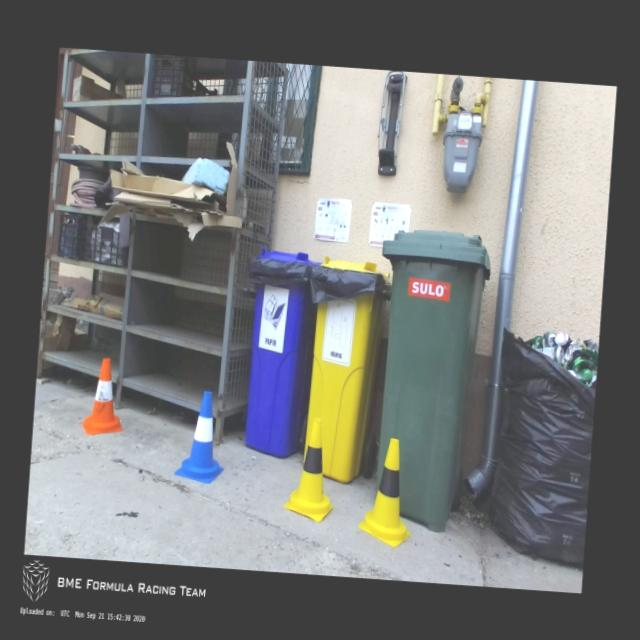blue_cone: (172, 388, 228, 484)
orange_cone: (80, 356, 127, 436)
yellow_cone: (356, 436, 416, 548), (283, 416, 339, 523)
